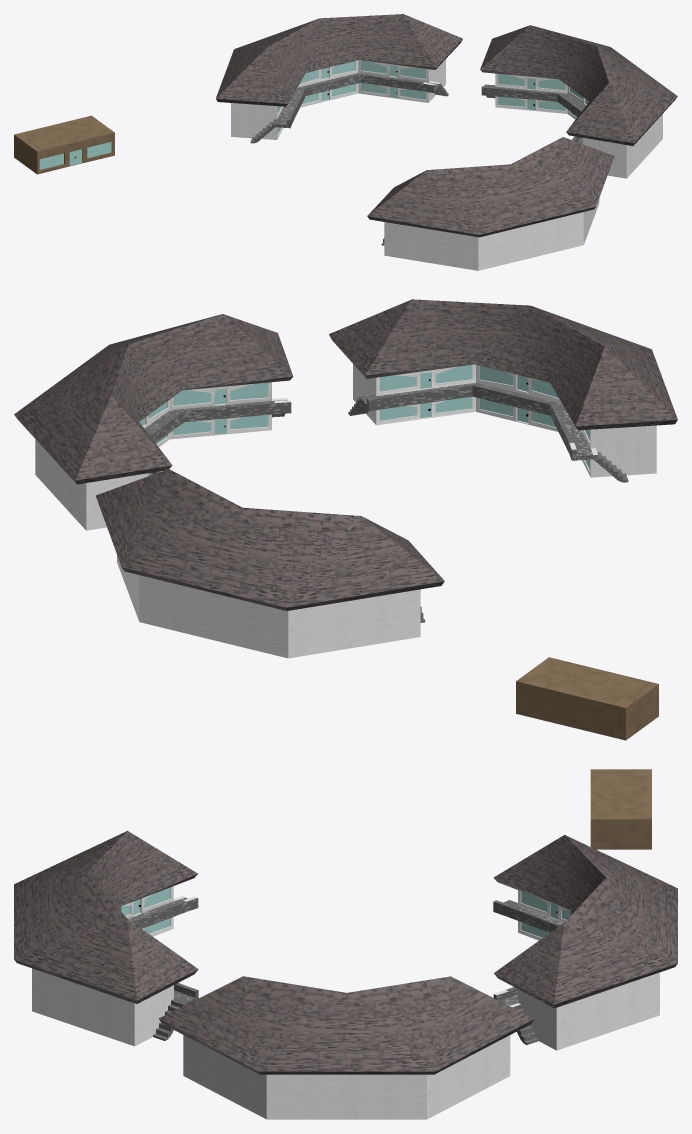
File: multi_story_shop_complex.fbx
3 views of the same model, one above another, from view 1: azimuth 30°, elevation 25°; view 2: azimuth 150°, elevation 25°; view 3: azimuth 270°, elevation 25° (orthographic). The views are drawn at different scales.
Parts seen in each view (by area): view 1: Cube_2, Cube, Cube_1, Chikn_Nugets; view 2: Cube, Cube_2, Cube_1, Chikn_Nugets; view 3: Cube_1, Cube_2, Cube, Chikn_Nugets.
Part boxes in pixels (x1,y1,x2,y2): Cube_2: [367, 137, 614, 270]; Cube: [216, 14, 462, 143]; Cube_1: [480, 25, 677, 178]; Chikn_Nugets: [14, 115, 114, 174]; Cube: [96, 469, 444, 658]; Cube_2: [329, 299, 677, 482]; Cube_1: [14, 314, 293, 530]; Chikn_Nugets: [516, 657, 658, 740]; Cube_1: [158, 976, 534, 1119]; Cube_2: [14, 831, 198, 1046]; Cube: [493, 835, 677, 1050]; Chikn_Nugets: [590, 769, 651, 849].
Size of the model in its own units: 6645 by 1007 by 5632.
2 materials, 2 textured.
